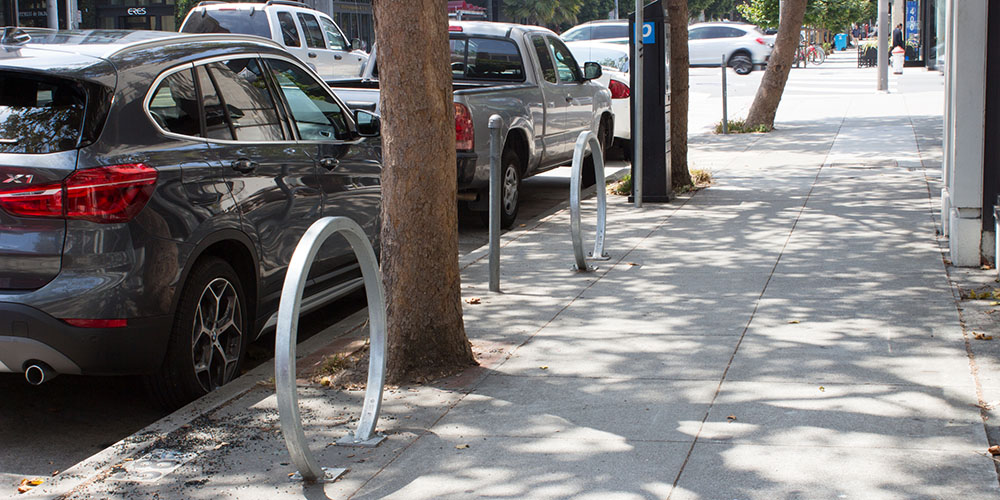Car: (6, 28, 378, 389), (450, 16, 623, 201), (688, 17, 783, 76)
